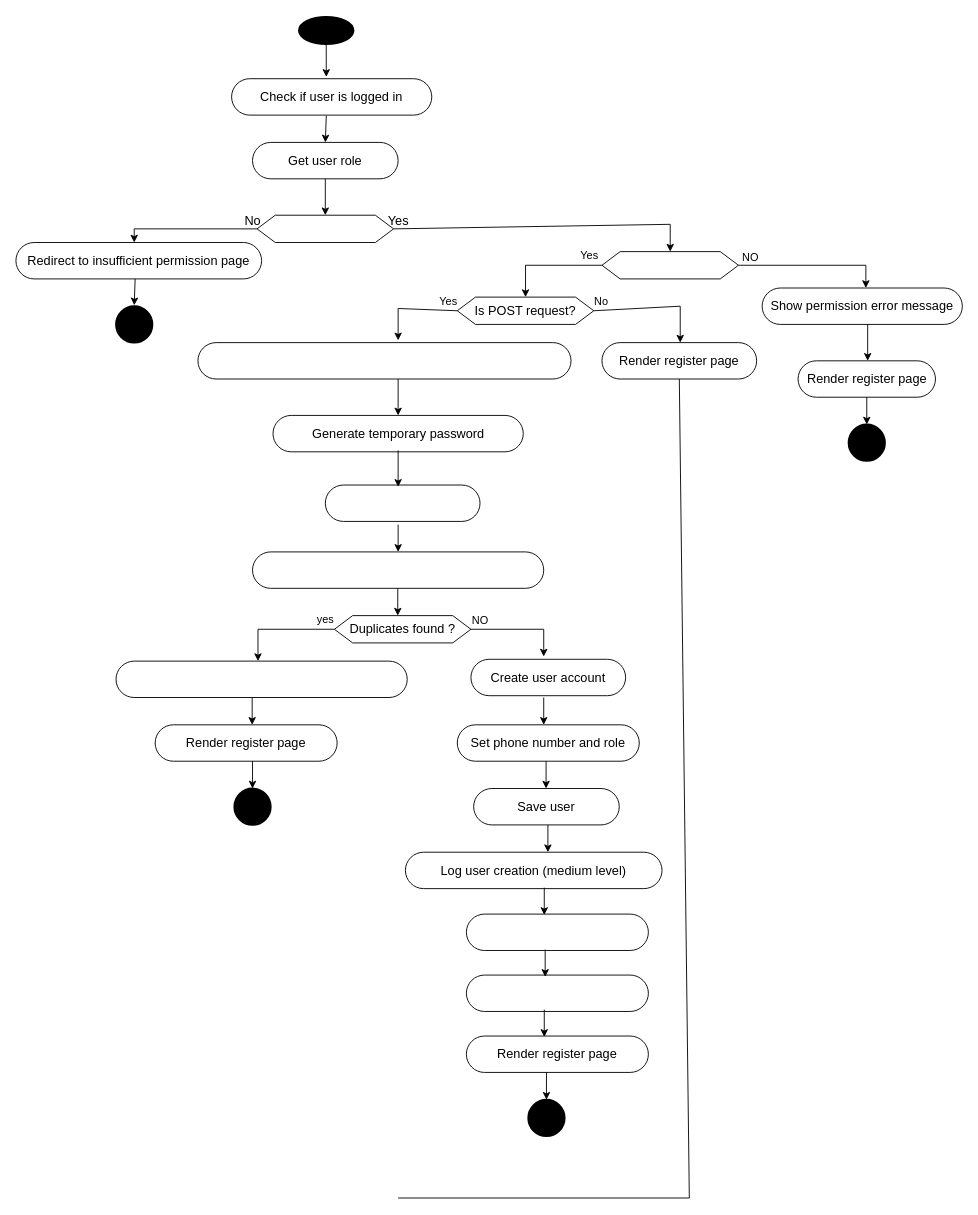
This 978x1215 diagram has some shape labels left out. The centre of each missing label's shape, as x and y in pixels:
Check for duplicate username/email/phone: point (398, 569)
Get form inputs (first name, last name, username, email, phone): point (384, 360)
is role Admin?: point (325, 228)
Is user staff?: point (669, 265)
Send account creation email: point (556, 931)
set role = OPERATOR: point (402, 502)
Show error message about duplicates: point (261, 679)
Show success message: point (556, 992)
